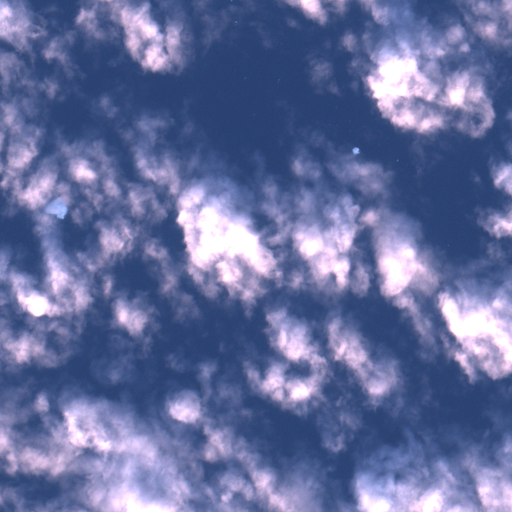Iceberg: (45, 197, 67, 218), (352, 147, 359, 153), (235, 21, 236, 22), (397, 159, 398, 160)
